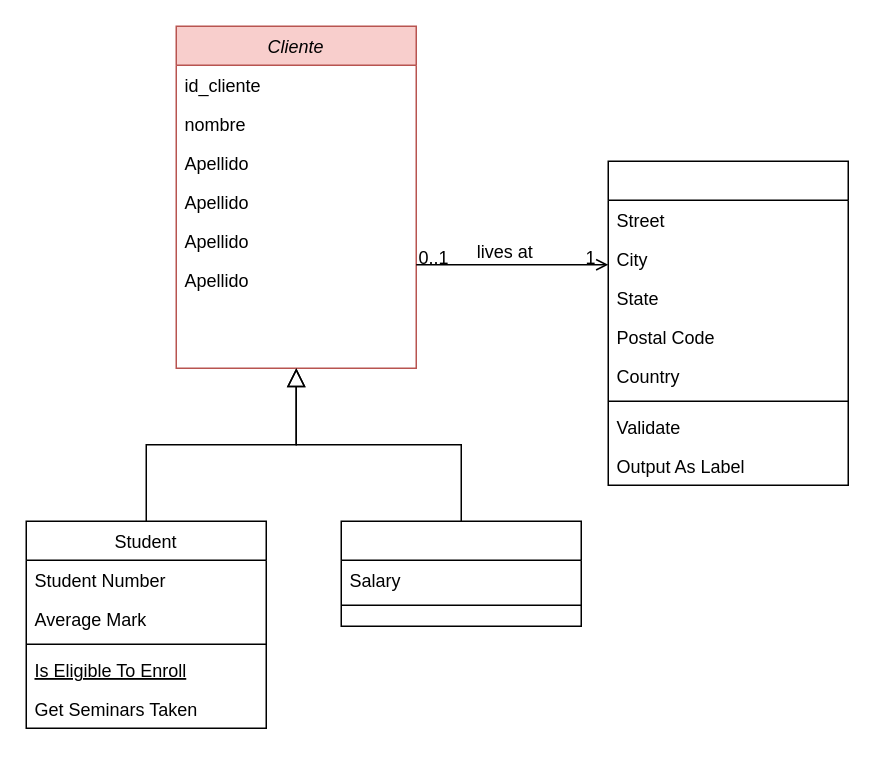
Image size: 875x759. Some labels were removed from this diagram. Each missing label, with the box of its shape:
Address: (607, 160, 848, 485)
Professor: (340, 520, 581, 626)
